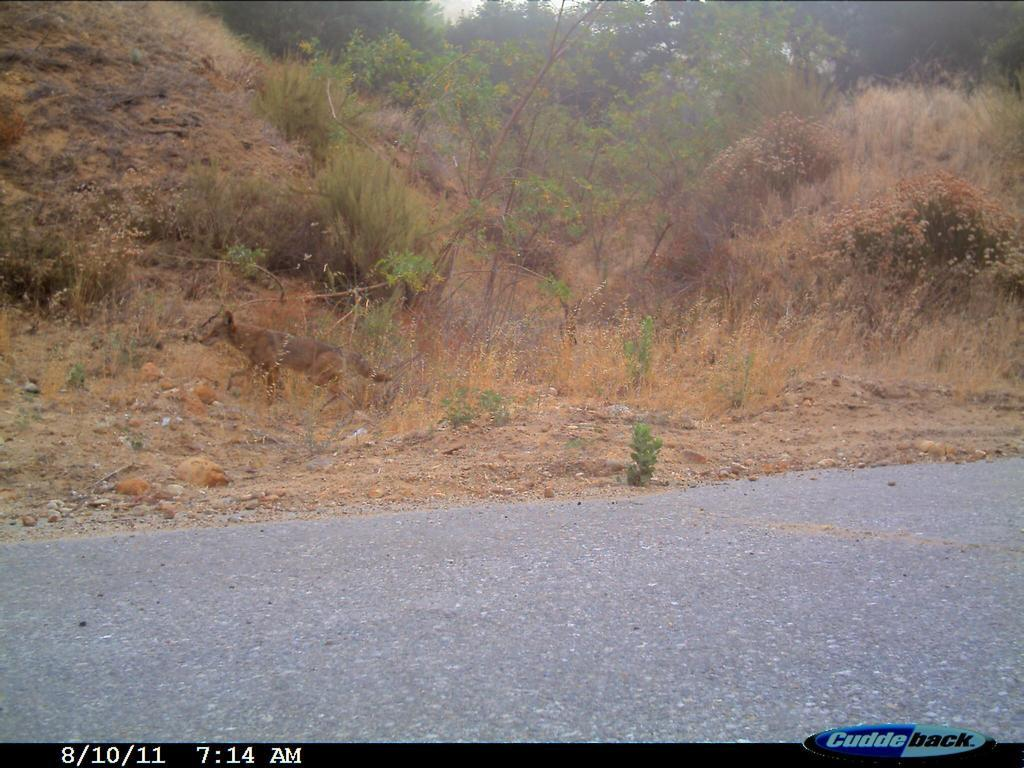coyote: (196, 304, 397, 426)
